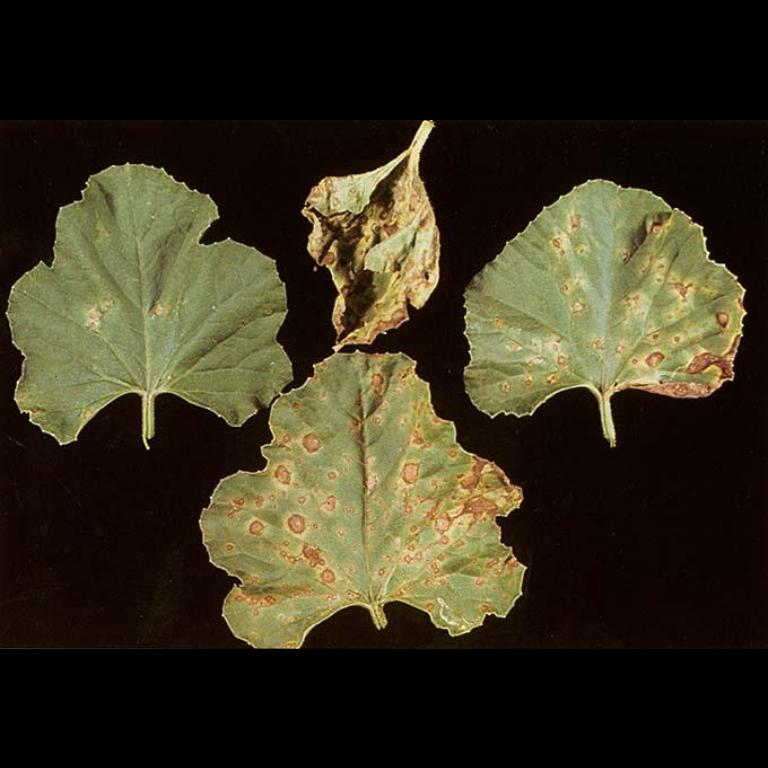blight: (432, 452, 516, 542), (646, 344, 738, 398)
